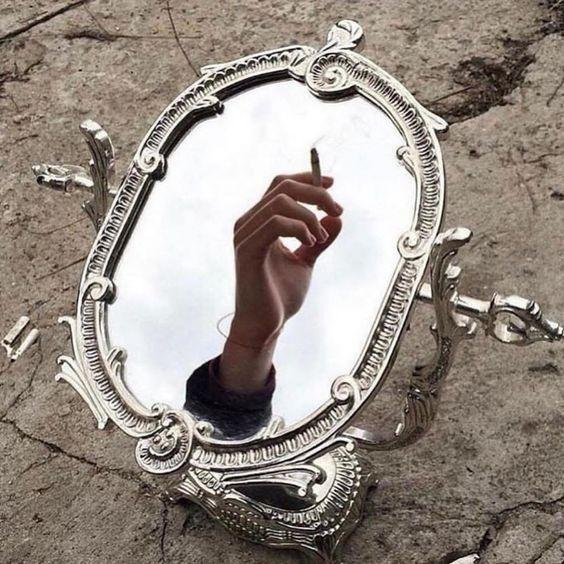cigarette: (310, 147, 325, 211)
